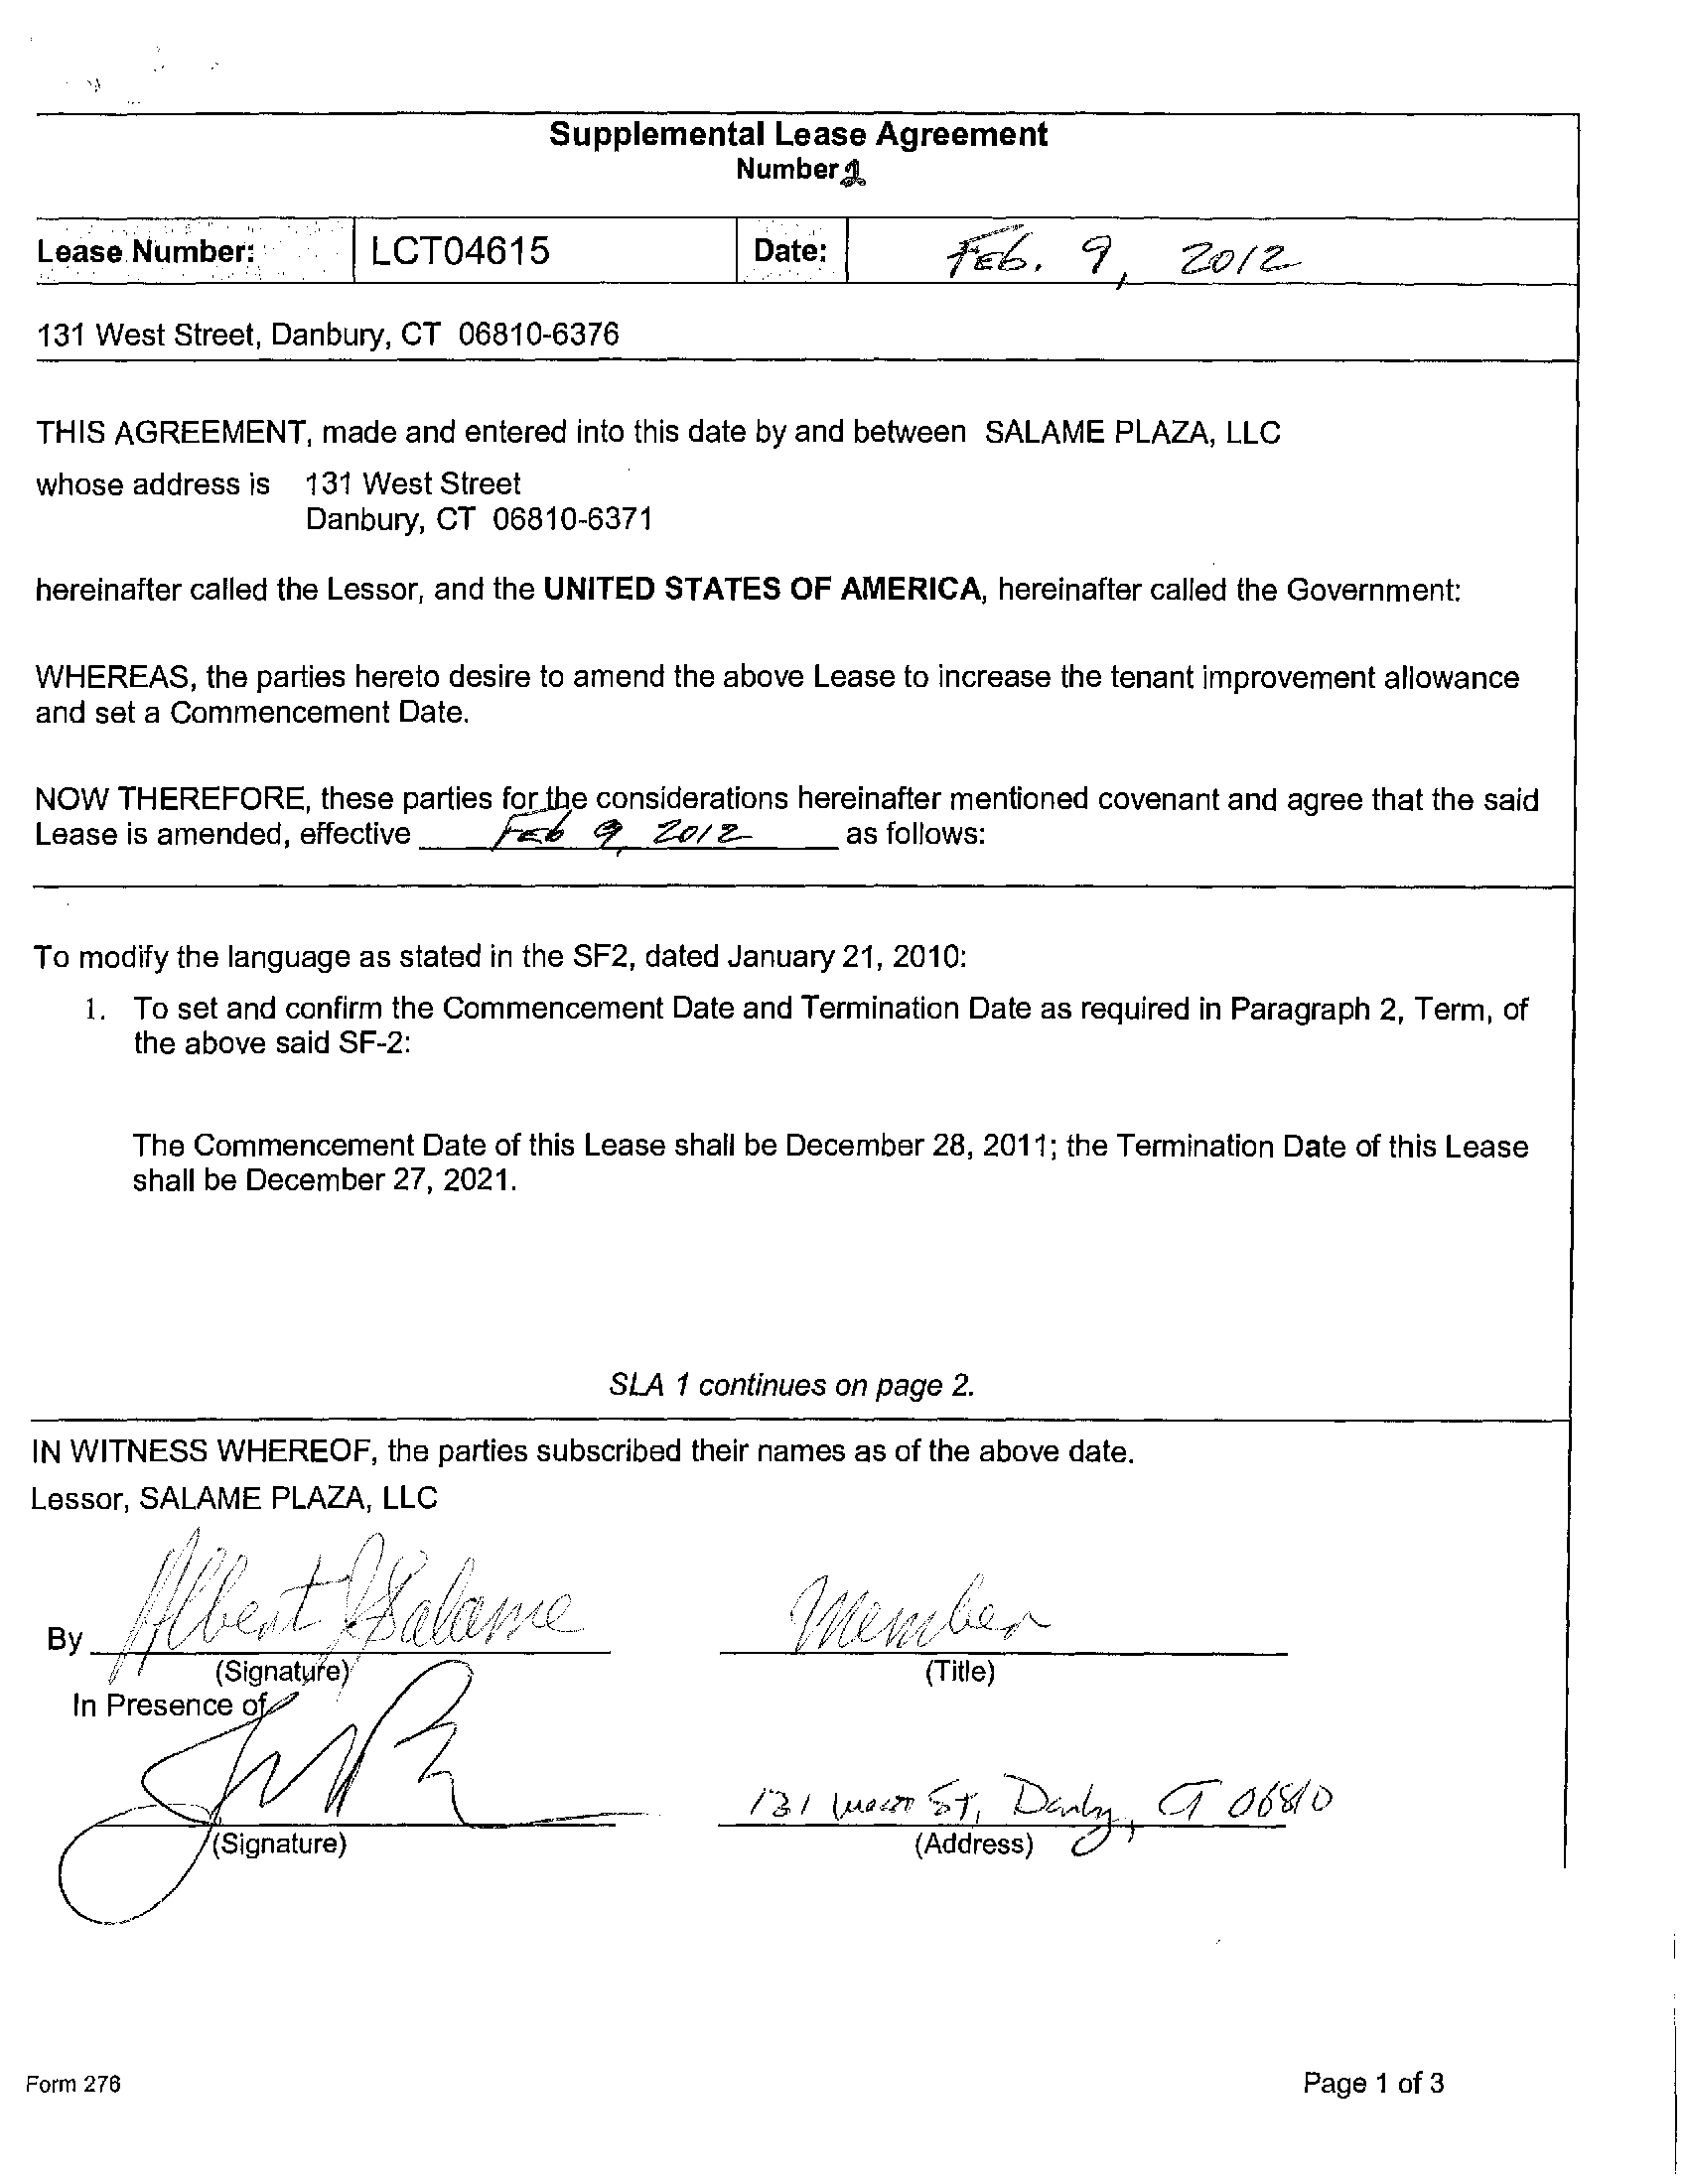handwritten: (99, 1526, 590, 1656), (716, 1730, 1374, 1826), (137, 1720, 631, 1824), (30, 1751, 207, 1954), (773, 1567, 1080, 1659), (915, 216, 1321, 280), (470, 814, 791, 854)
